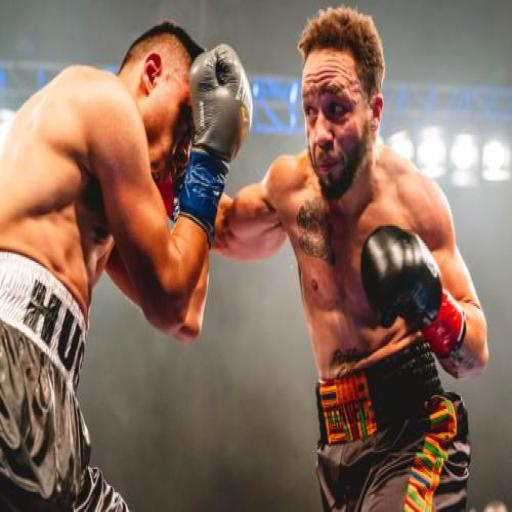boxing: (156, 40, 512, 512), (0, 18, 253, 510)
